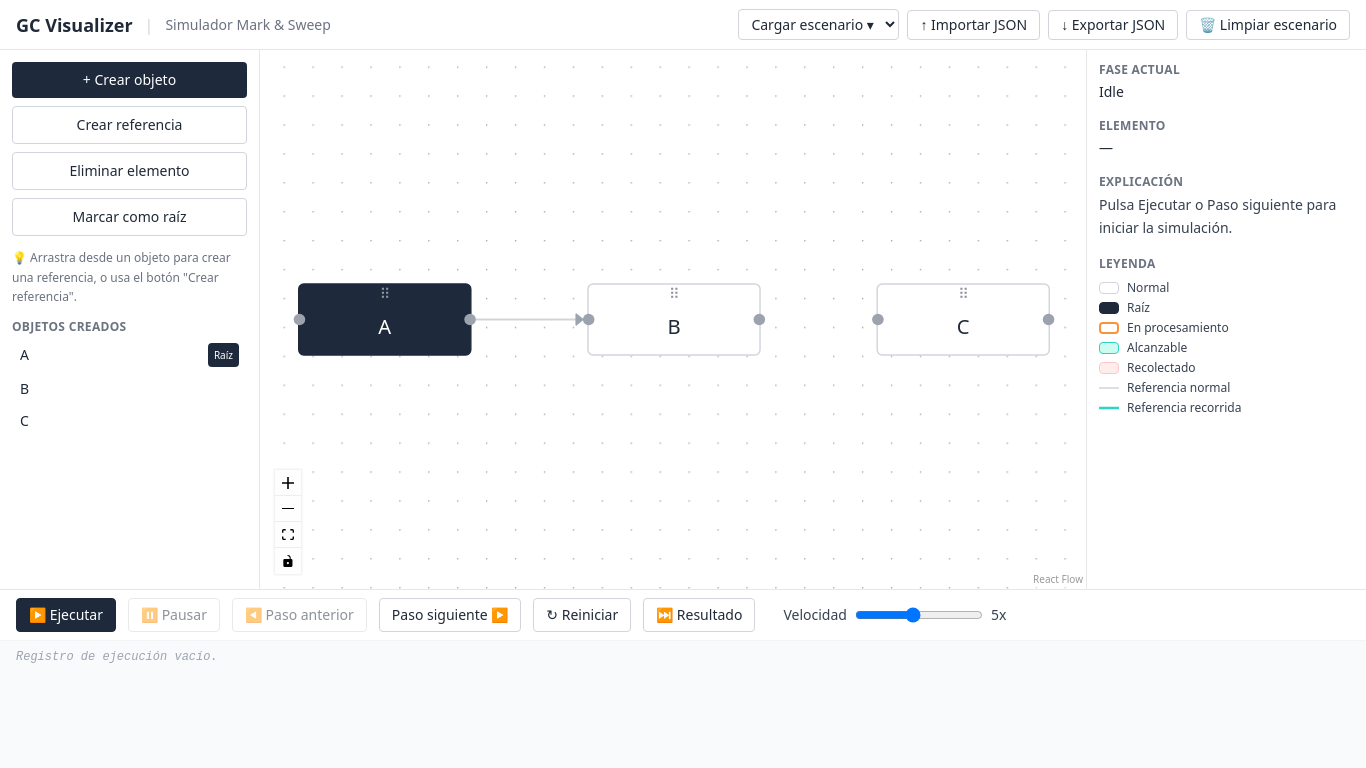
it: GC Visualizer — End-to-End › TC-E-09: diferenciación visual de objetos recolectados
Expected: the element with test id "graph-canvas" is shown, [260,50,1086,589]
Click the button with test id "btn-ejecutar" at (66, 615), box [16,598,116,632]
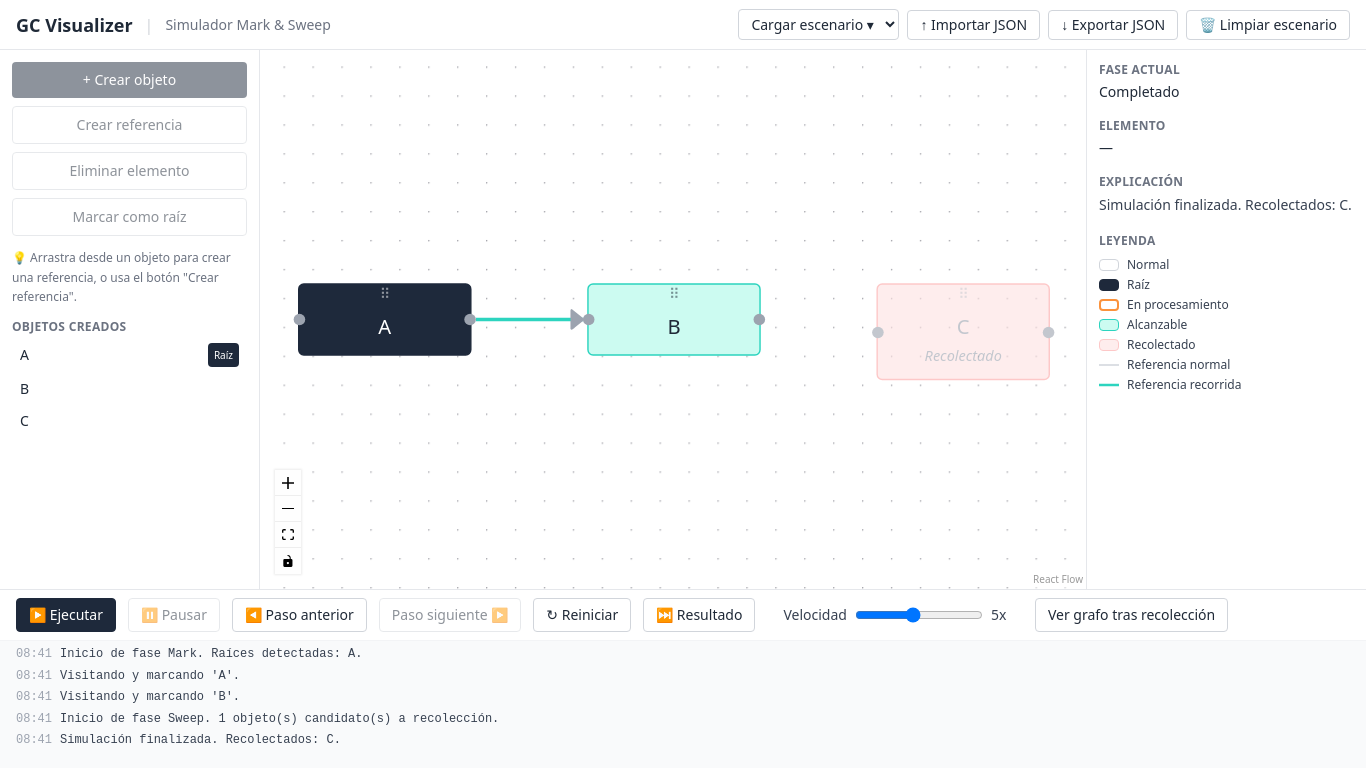
Expected: the element with test id "node-A" does not show "Recolectado"
Expected: the text with test id "info-fase-actual" reads "Completado", [1099,82,1180,101]
Expected: the text with test id "node-C" reads "Recolectado", [925,346,1002,366]
